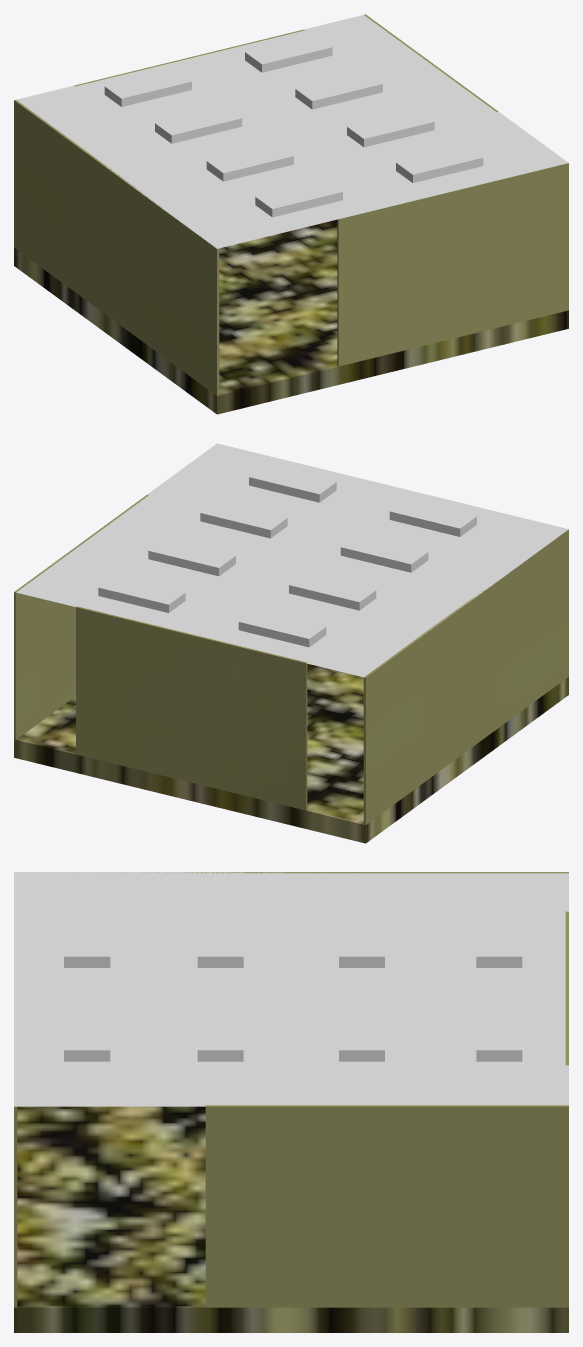
The model's file is BackroomsLevelZero - 11.fbx.
3 views of the same model, one above another, from view 1: azimuth 30°, elevation 25°; view 2: azimuth 150°, elevation 25°; view 3: azimuth 270°, elevation 25° (orthographic). The views are drawn at different scales.
Visible parts, largest first — view 1: Floor.020, Wall.035, Wall.036, Floor.016, Cube.203, Cube.208, Cube.204, Cube.209, Cube.207, Cube.210, Cube.205, Cube.206; view 2: Floor.020, Wall.038, Wall.036, Floor.016, Wall.037, Cube.205, Cube.203, Cube.209, Cube.204, Cube.208, Cube.207, Cube.210 (+1 smaller); view 3: Floor.020, Wall.037, Floor.016, Cube.206, Cube.208, Cube.210, Cube.203, Cube.205, Cube.209, Cube.204, Cube.207, Wall.035 (+2 smaller).
Part boxes in pixels (<box>): Floor.020: <box>16,15,568,248</box>; Wall.035: <box>337,163,568,366</box>; Wall.036: <box>14,100,219,395</box>; Floor.016: <box>14,219,568,414</box>; Cube.203: <box>104,69,191,106</box>; Cube.208: <box>347,109,434,147</box>; Cube.204: <box>155,106,242,143</box>; Cube.209: <box>255,179,342,217</box>; Cube.207: <box>295,71,382,109</box>; Cube.210: <box>396,145,483,182</box>; Cube.205: <box>206,144,293,181</box>; Cube.206: <box>245,35,332,72</box>; Floor.020: <box>16,443,568,677</box>; Wall.038: <box>76,606,307,810</box>; Wall.036: <box>363,529,568,824</box>; Floor.016: <box>14,663,568,843</box>; Wall.037: <box>14,494,148,739</box>; Cube.205: <box>340,535,428,572</box>; Cube.203: <box>238,609,326,647</box>; Cube.209: <box>389,499,476,536</box>; Cube.204: <box>289,573,376,610</box>; Cube.208: <box>200,500,287,538</box>; Cube.207: <box>148,538,235,576</box>; Cube.210: <box>249,465,336,502</box>; Floor.020: <box>14,872,568,1106</box>; Wall.037: <box>205,1105,568,1307</box>; Floor.016: <box>14,1106,568,1332</box>; Cube.206: <box>476,1003,522,1061</box>; Cube.208: <box>197,1003,243,1061</box>; Cube.210: <box>64,1003,110,1061</box>; Cube.203: <box>476,909,522,967</box>; Cube.205: <box>197,909,243,967</box>; Cube.209: <box>64,909,110,967</box>; Cube.204: <box>339,909,384,967</box>; Cube.207: <box>339,1003,384,1061</box>; Wall.035: <box>14,1106,17,1307</box>.
Size of the model in its own units: 2000 by 946 by 2000.
